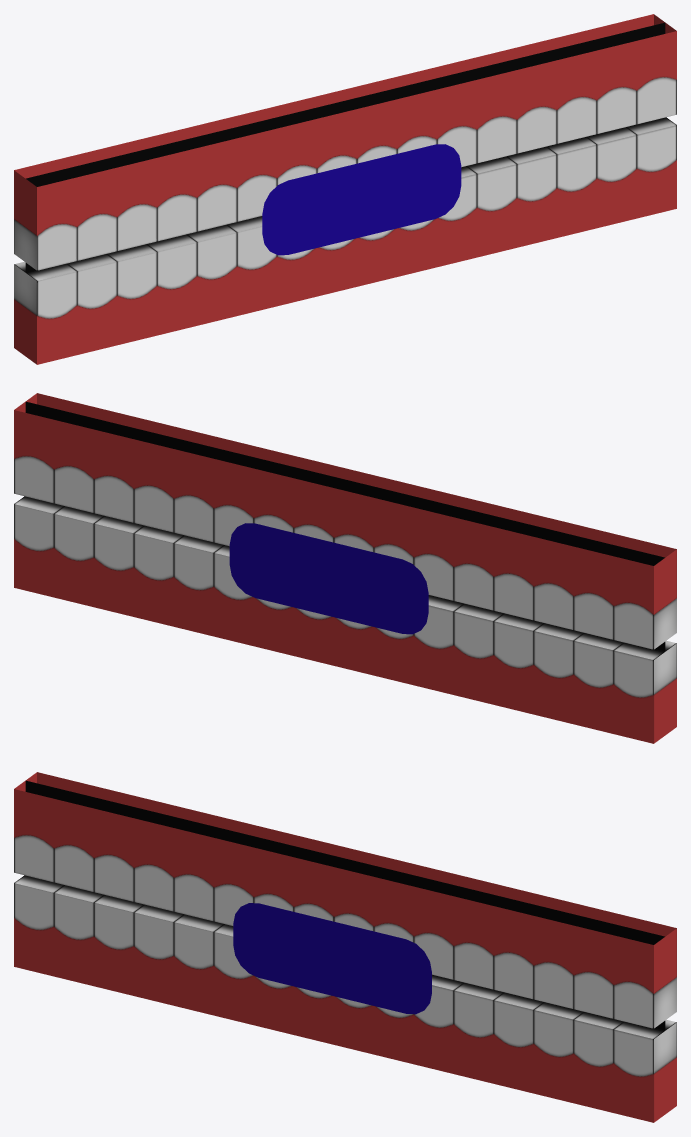
Rendered from temp_GhostMouth.fbx.
3 renders of one model, top to bottom at view 1: azimuth 30°, elevation 25°; view 2: azimuth 150°, elevation 25°; view 3: azimuth 330°, elevation 25°, orthographic.
Visible parts, largest first — view 1: teeth, mouthShape; view 2: teeth, mouthShape; view 3: teeth, mouthShape.
Boxes of the visible parts, left/top/right/bottom form: teeth: left=14, top=14, right=676, bottom=364; mouthShape: left=262, top=144, right=461, bottom=255; teeth: left=14, top=393, right=676, bottom=743; mouthShape: left=229, top=523, right=428, bottom=634; teeth: left=14, top=772, right=676, bottom=1122; mouthShape: left=233, top=903, right=431, bottom=1014.
Bounding box in the file's own units: 157 × 41.82 × 12.47.
2 materials, 1 textured.
